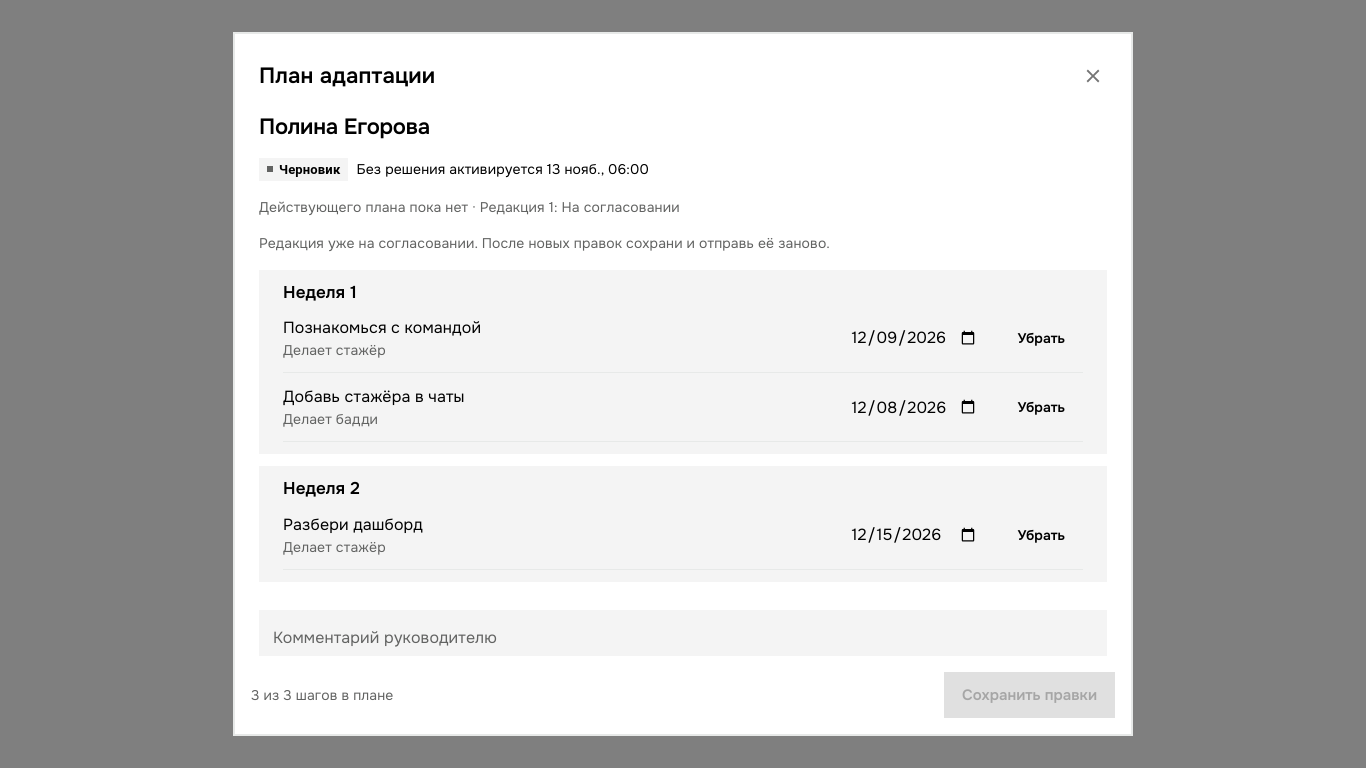
Scenario: PlanDraftDialog › shows backend errors and keeps the dialog open
Expected: the heading "Полина Егорова" is shown, [259,113,430,141]
Type "2026-12-12" into the date field named "Срок: Разбери дашборд". click: (914, 535)
box: [836,515,992,555]
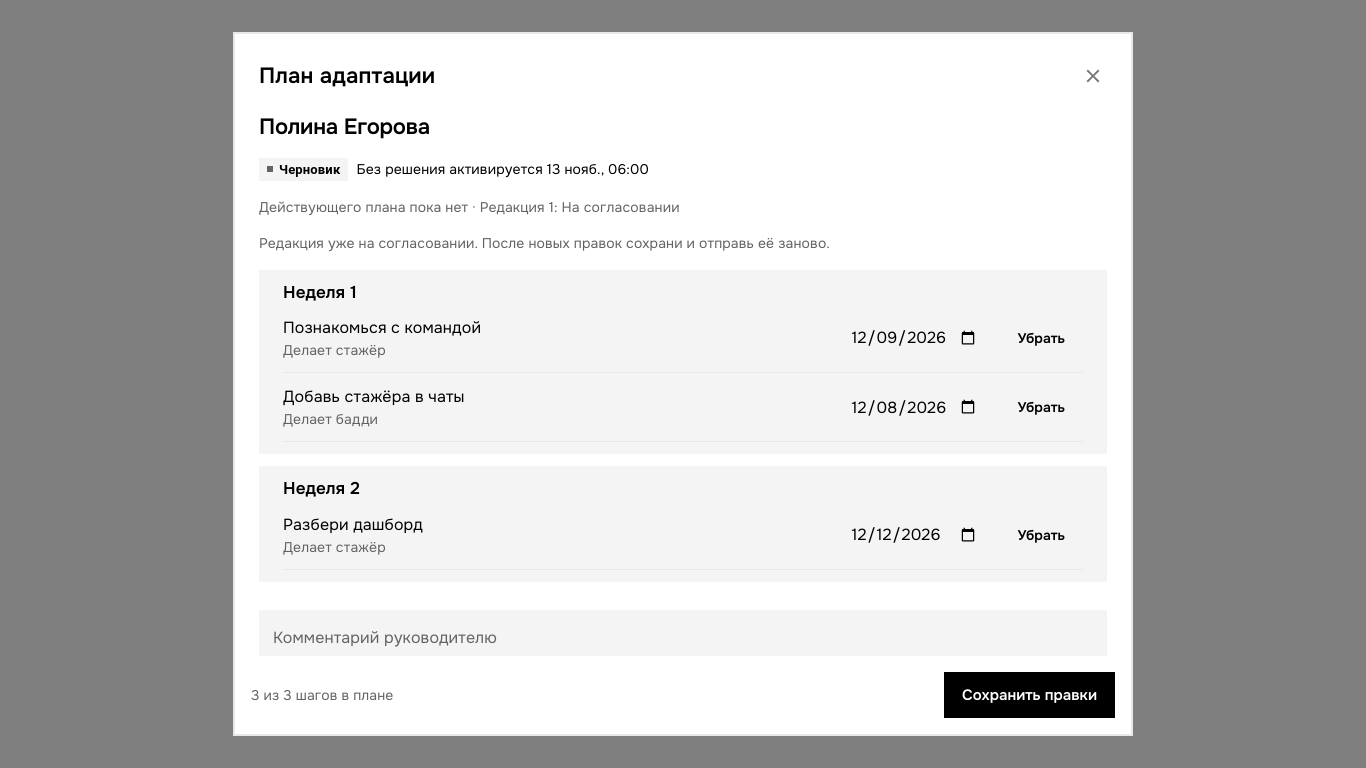
Click the button "Сохранить правки". click: (1030, 695)
box: [944,672,1115,718]
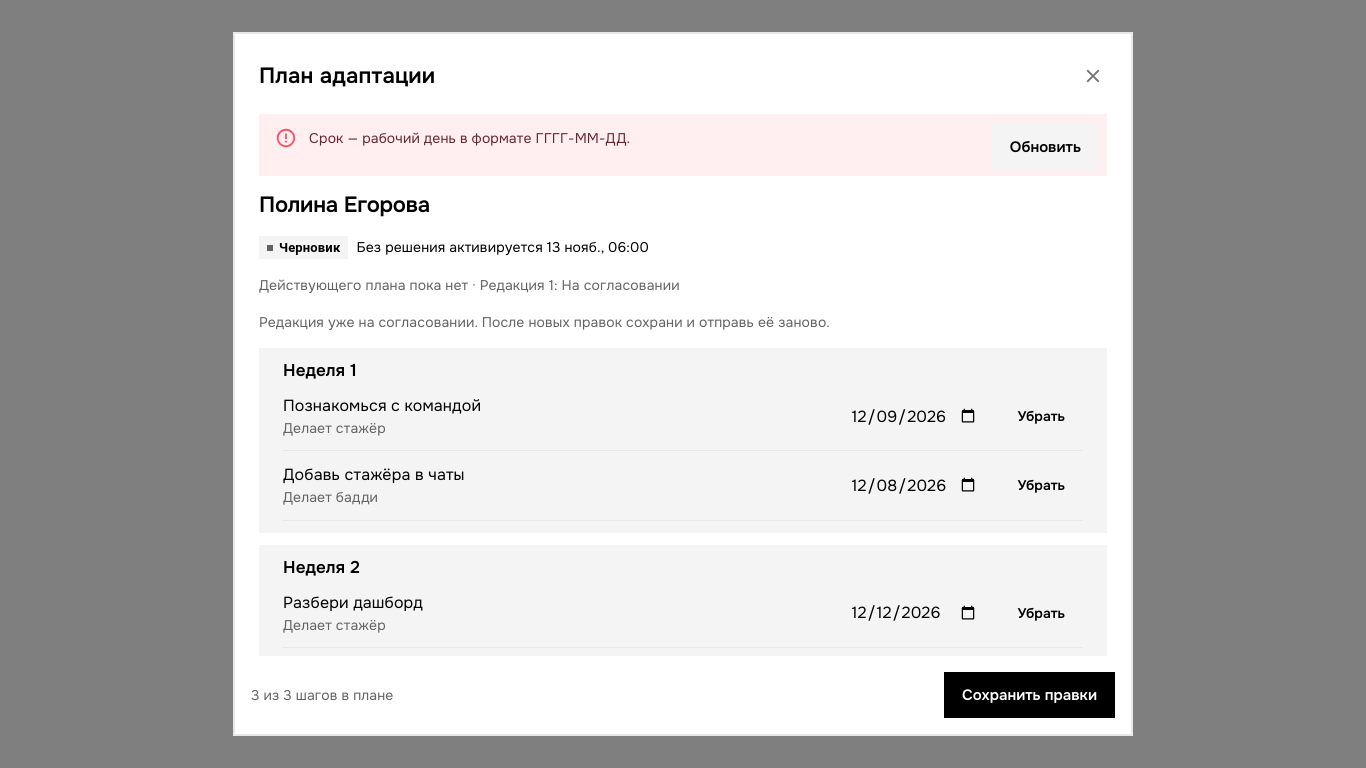
Expected: the text "Срок — рабочий день в формате ГГГГ-ММ-ДД." is shown, [309,129,630,147]
